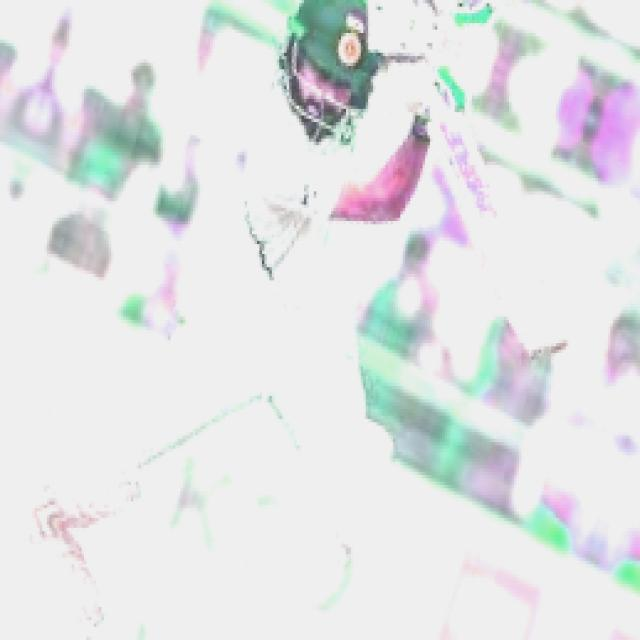toe: (515, 310, 575, 372)
